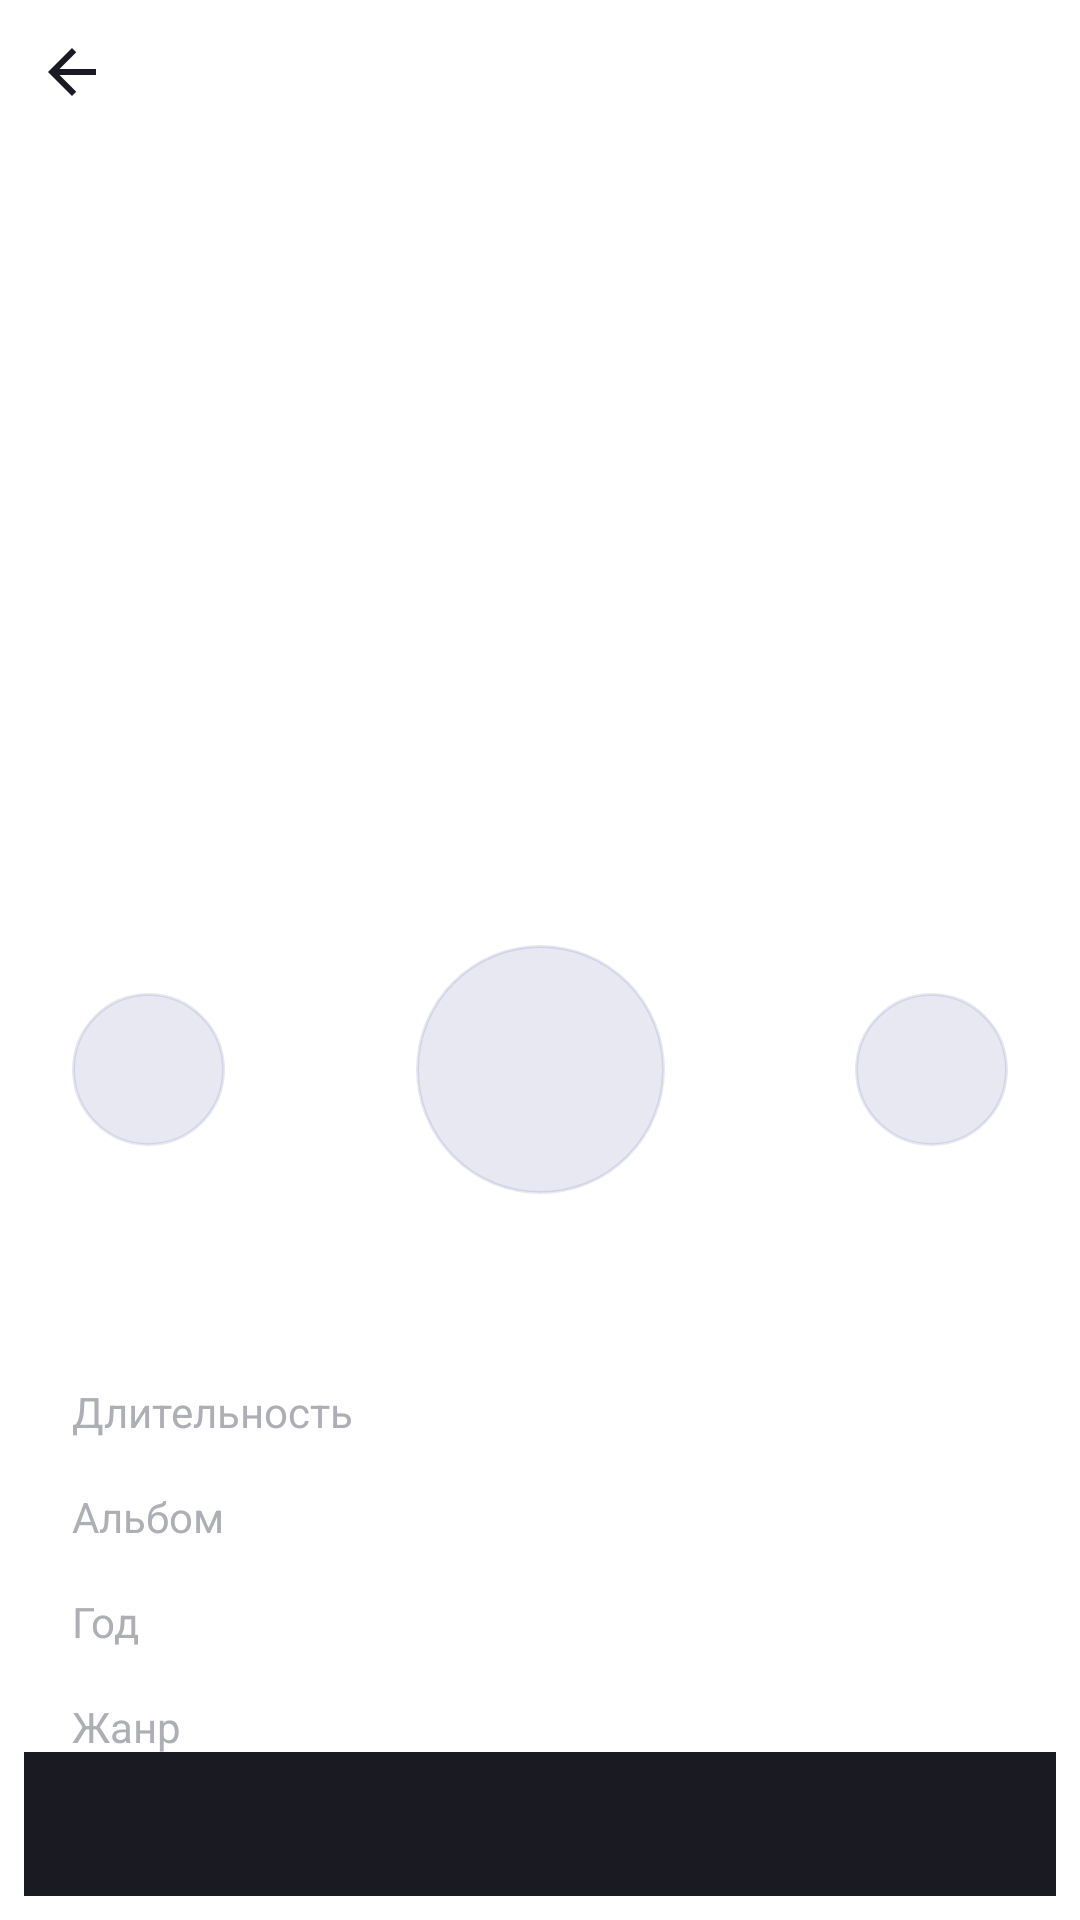

Point at icon controls on the screen. Image size 1080x1920, points as (x,y).
return: (72,72)
